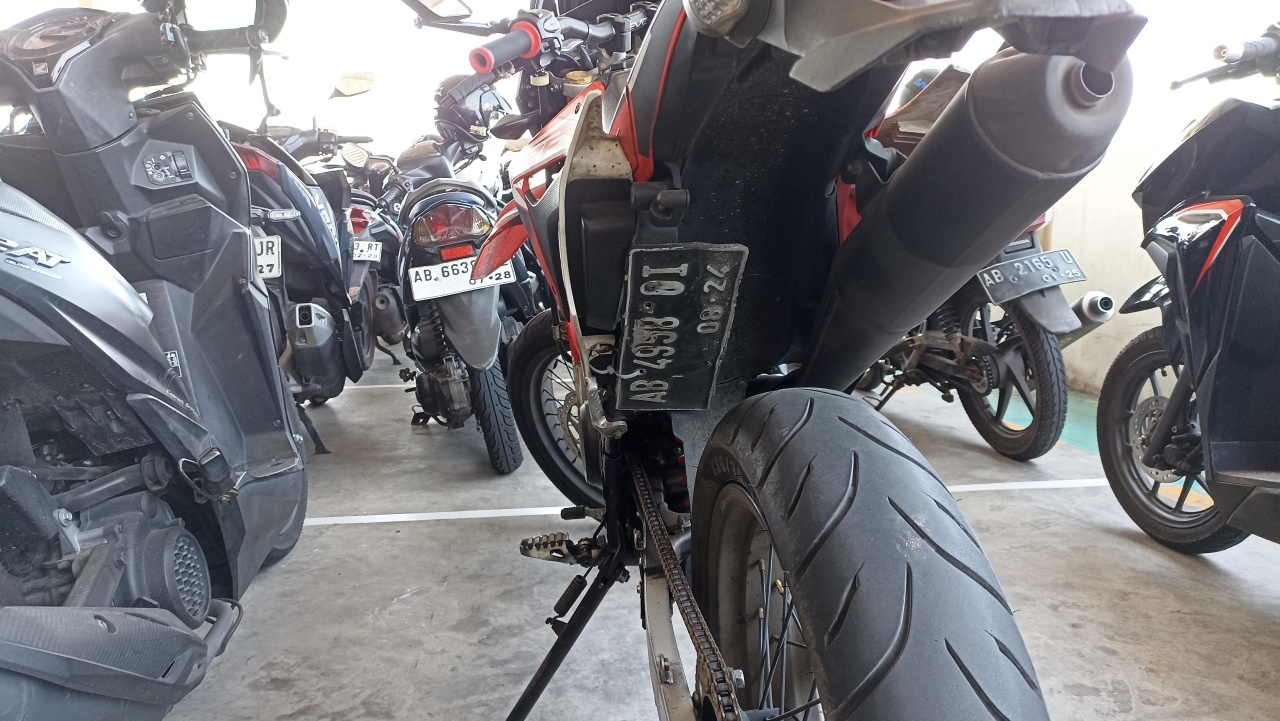plate: (618, 248, 747, 410), (977, 249, 1087, 305)
